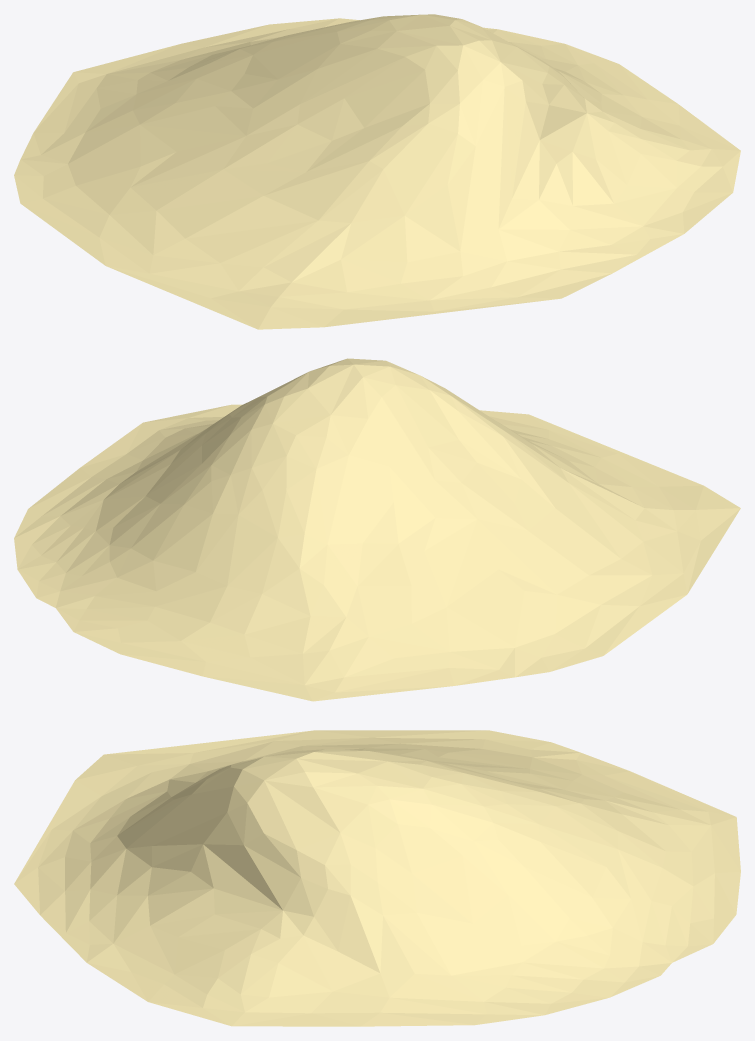
Rendered from Hill_m_01.fbx.
3 renders of one model, top to bottom at view 1: azimuth 30°, elevation 25°; view 2: azimuth 150°, elevation 25°; view 3: azimuth 270°, elevation 25°, orthographic. The views are drawn at different scales.
Parts seen in each view (by area): view 1: Hill_m_01; view 2: Hill_m_01; view 3: Hill_m_01.
Part boxes in pixels (box(x1,y1,x2,y2)): Hill_m_01: box(14, 14, 740, 329); Hill_m_01: box(14, 358, 740, 701); Hill_m_01: box(14, 730, 740, 1026).
Size of the model in its own units: 8785 by 2006 by 9104.
